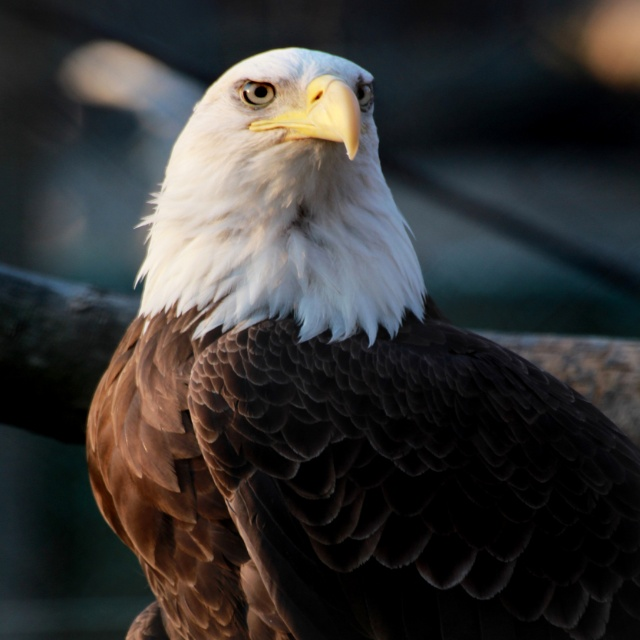Eagle: (84, 48, 640, 640)
